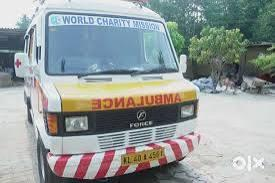ambulance: (15, 0, 203, 182)
